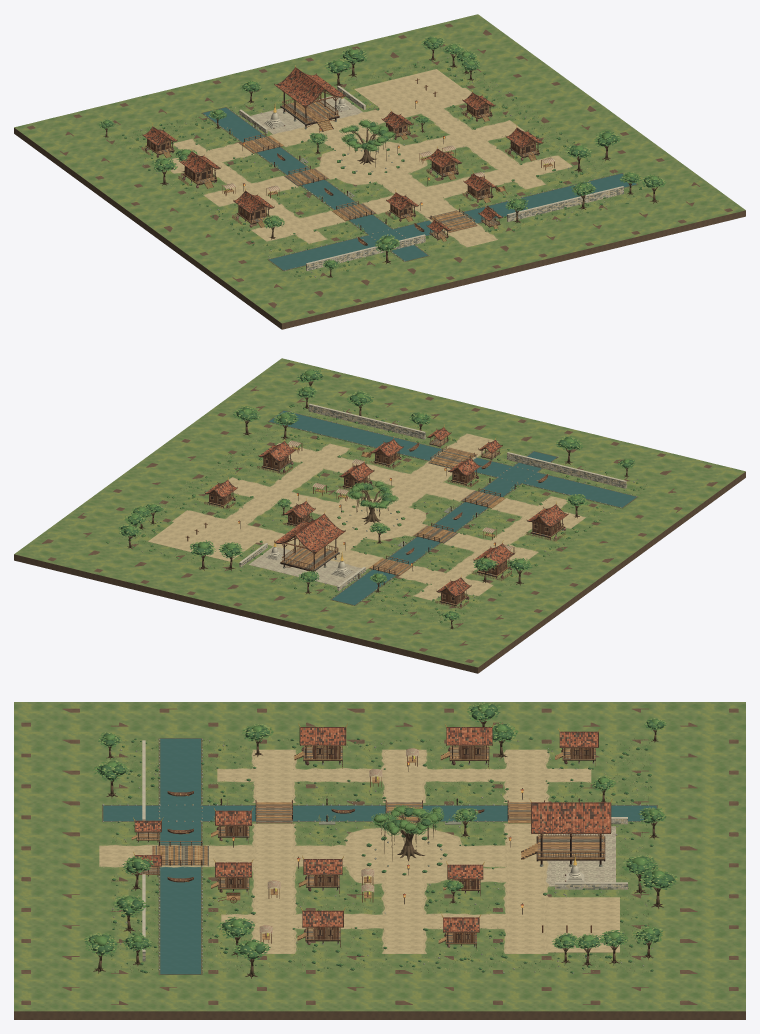
File: ayutthaya.glb
The picture shows the model from 3 angles, top to bottom: view 1: azimuth 30°, elevation 25°; view 2: azimuth 150°, elevation 25°; view 3: azimuth 270°, elevation 25°; orthographic projection. The views are drawn at different scales.
Visible parts, largest first — view 1: Ground - varied meadow | grass, Tracks - worn earth | path, Soil foundation | earth, Water surface | water, Feathered road shoulders | path_edge, Roof / overlapping clay tiles | roof, Organic tree foliage | leaf, Courtyard paving | path, Roof / closed timber underlay | roof_under, Fine outer tree leaves | leaf4, Fine outer tree leaves | leaf2, Fine outer tree leaves | leaf3 (+23 smaller); view 2: Ground - varied meadow | grass, Tracks - worn earth | path, Soil foundation | earth, Water surface | water, Feathered road shoulders | path_edge, Roof / overlapping clay tiles | roof, Organic tree foliage | leaf, Roof / closed timber underlay | roof_under, Fine outer tree leaves | leaf2, Fine outer tree leaves | leaf4, Courtyard paving | path, Fine outer tree leaves | leaf3 (+22 smaller); view 3: Ground - varied meadow | grass, Tracks - worn earth | path, Water surface | water, Soil foundation | earth, Feathered road shoulders | path_edge, Roof / overlapping clay tiles | roof, Organic tree foliage | leaf, Roof / closed timber underlay | roof_under, Courtyard paving | path, Fine outer tree leaves | leaf2, Fine outer tree leaves | leaf4, Fine outer tree leaves | leaf3 (+32 smaller).
Part boxes in pixels (<box>): Ground - varied meadow | grass: <box>14,14,745,323</box>; Tracks - worn earth | path: <box>170,84,571,246</box>; Soil foundation | earth: <box>14,23,745,329</box>; Water surface | water: <box>203,107,636,270</box>; Feathered road shoulders | path_edge: <box>170,84,572,247</box>; Roof / overlapping clay tiles | roof: <box>144,68,541,232</box>; Organic tree foliage | leaf: <box>101,37,663,268</box>; Courtyard paving | path: <box>354,69,461,107</box>; Roof / closed timber underlay | roof_under: <box>144,71,541,232</box>; Fine outer tree leaves | leaf4: <box>100,36,666,269</box>; Fine outer tree leaves | leaf2: <box>99,38,665,268</box>; Fine outer tree leaves | leaf3: <box>99,37,665,267</box>; Ground - varied meadow | grass: <box>14,358,745,667</box>; Tracks - worn earth | path: <box>173,434,584,600</box>; Soil foundation | earth: <box>14,362,745,673</box>; Water surface | water: <box>269,411,636,605</box>; Feathered road shoulders | path_edge: <box>172,433,586,601</box>; Roof / overlapping clay tiles | roof: <box>206,428,567,595</box>; Organic tree foliage | leaf: <box>120,370,633,619</box>; Roof / closed timber underlay | roof_under: <box>207,429,566,596</box>; Fine outer tree leaves | leaf2: <box>119,369,634,620</box>; Fine outer tree leaves | leaf4: <box>119,369,635,620</box>; Courtyard paving | path: <box>148,522,256,561</box>; Fine outer tree leaves | leaf3: <box>119,368,633,618</box>; Ground - varied meadow | grass: <box>14,702,745,1011</box>; Tracks - worn earth | path: <box>99,749,595,953</box>; Water surface | water: <box>103,738,656,974</box>; Soil foundation | earth: <box>14,708,745,1019</box>; Feathered road shoulders | path_edge: <box>99,749,595,953</box>; Roof / overlapping clay tiles | roof: <box>135,728,610,931</box>; Organic tree foliage | leaf: <box>88,704,674,958</box>; Roof / closed timber underlay | roof_under: <box>135,728,610,931</box>; Courtyard paving | path: <box>546,897,619,952</box>; Fine outer tree leaves | leaf2: <box>84,703,677,958</box>; Fine outer tree leaves | leaf4: <box>84,702,676,960</box>; Fine outer tree leaves | leaf3: <box>86,702,676,955</box>.
Size of the model in its own units: 180 by 18.12 by 180.
Materials: 40 (40 with a texture image).
